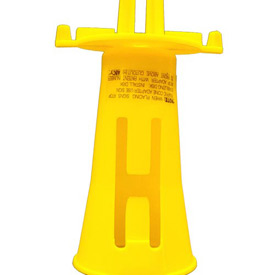yellowC: (41, 20, 199, 275)
